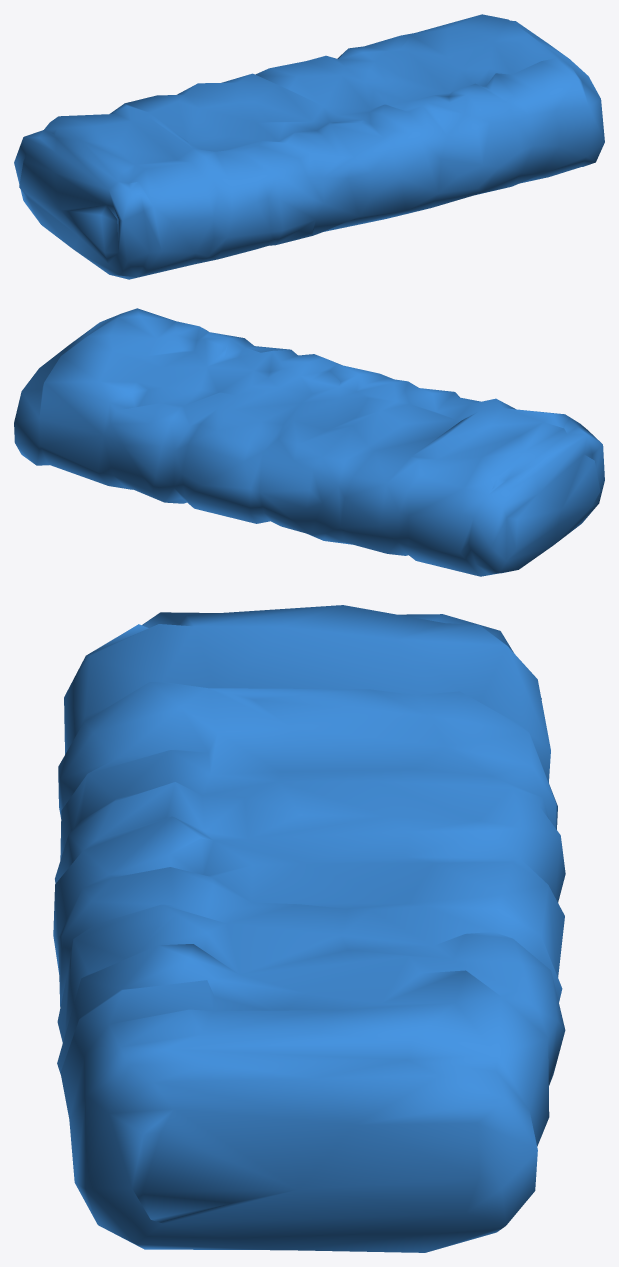
File: SM_prop_futon_fallen.fbx
The picture shows the model from 3 angles, top to bottom: view 1: azimuth 30°, elevation 25°; view 2: azimuth 150°, elevation 25°; view 3: azimuth 270°, elevation 25°; orthographic projection. The views are drawn at different scales.
Parts seen in each view (by area): view 1: SM_prop_futon_fallen; view 2: SM_prop_futon_fallen; view 3: SM_prop_futon_fallen.
Boxes of the visible parts, x1,y1,x2,y2 form: SM_prop_futon_fallen: (14, 14, 604, 279); SM_prop_futon_fallen: (14, 308, 604, 576); SM_prop_futon_fallen: (53, 605, 565, 1252).
Bounding box in the file's own units: 211 × 45 × 93.61.
Materials: 1 (1 with a texture image).
